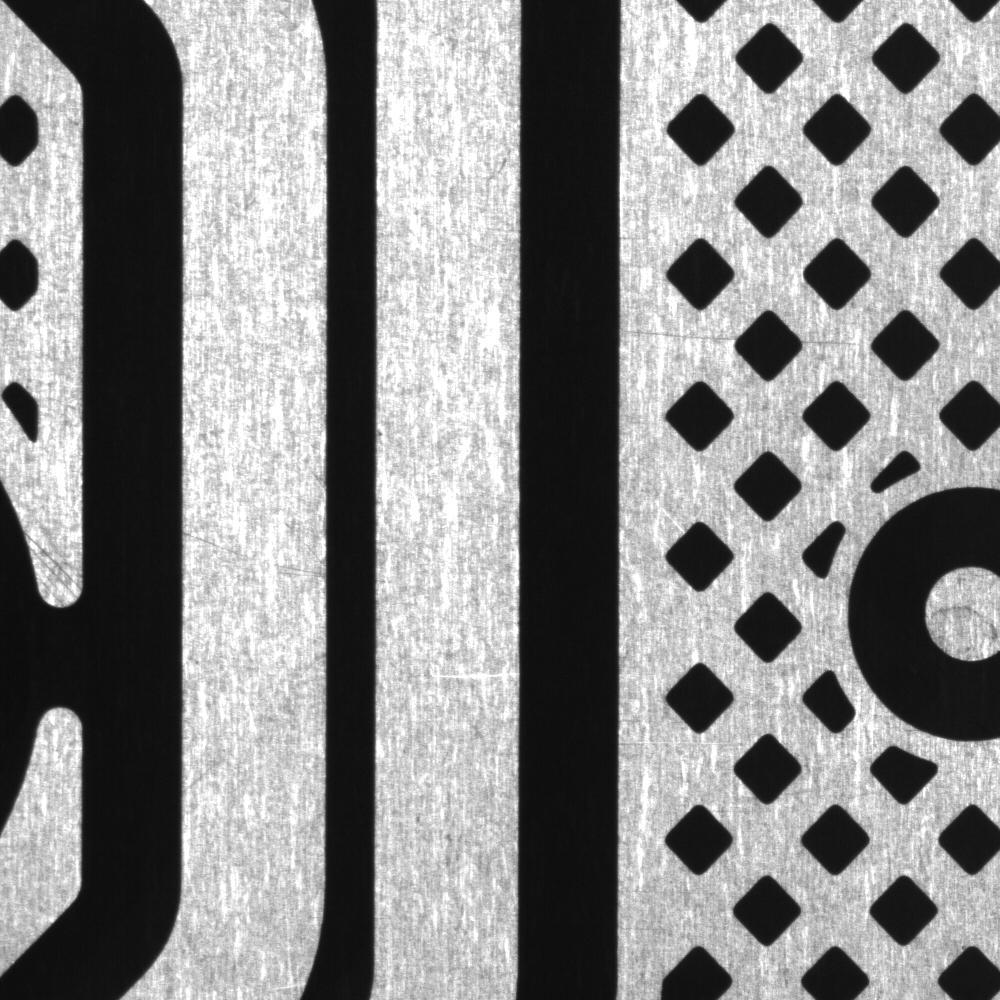Scar: (178, 511, 329, 591), (387, 3, 520, 77), (621, 307, 740, 362), (19, 516, 85, 604), (621, 726, 764, 764), (428, 650, 524, 692), (185, 744, 243, 802), (805, 329, 866, 356)
